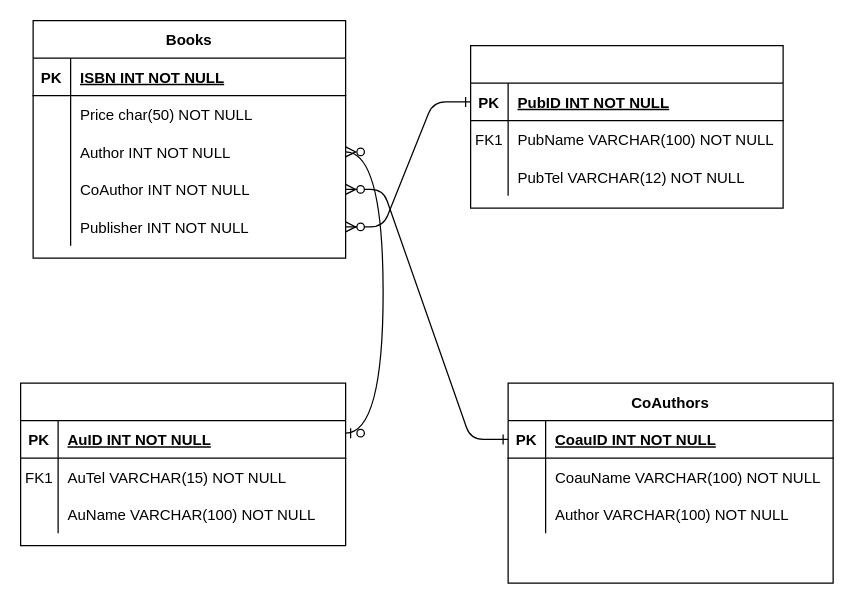
This 854x604 diagram has some shape labels left out. The box of each missing label's shape, as (x1, y1, x2, y2) in pixels:
Authors: (19, 382, 346, 546)
Publisher: (469, 44, 783, 208)
